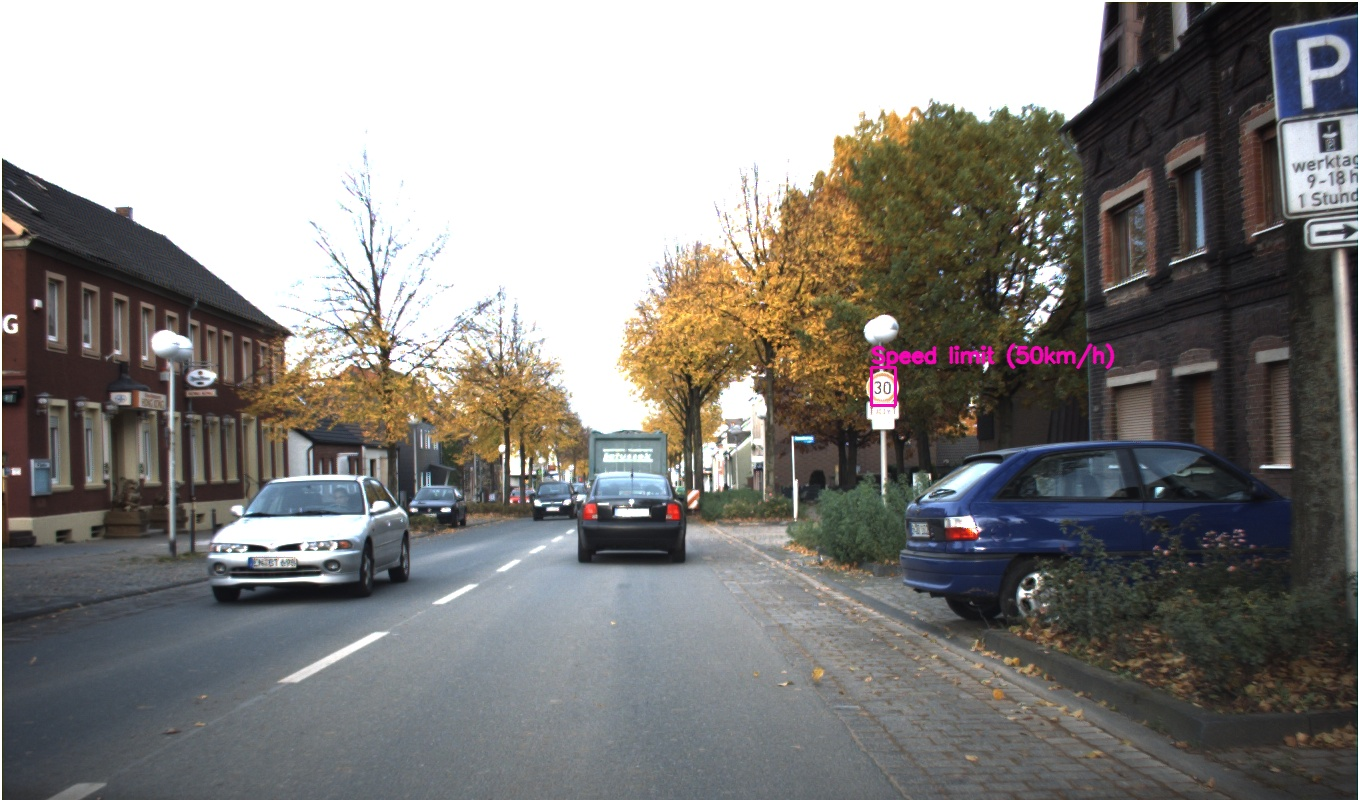Road work: (902, 369, 985, 443)
